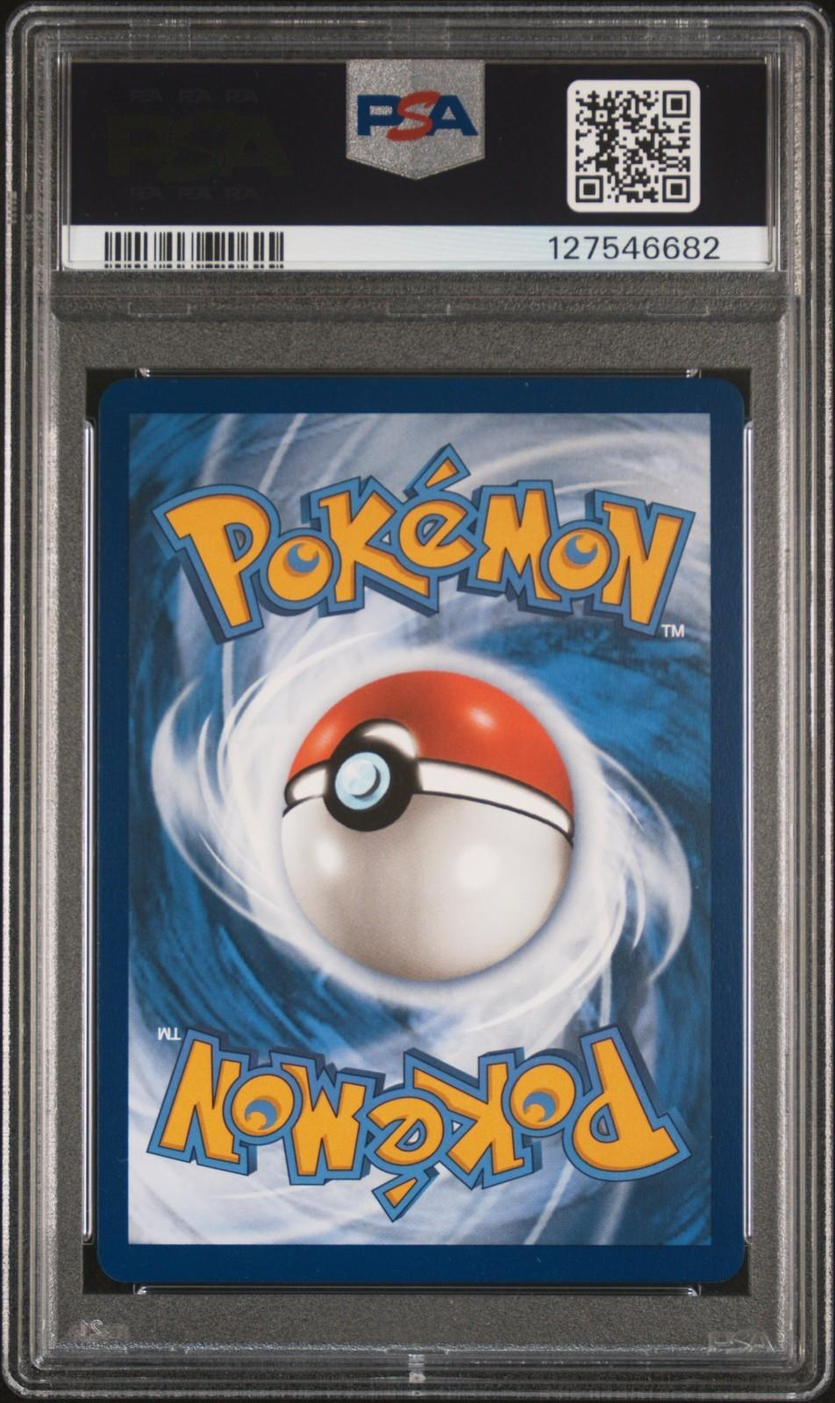card-2UtV: (96, 376, 746, 1284)
